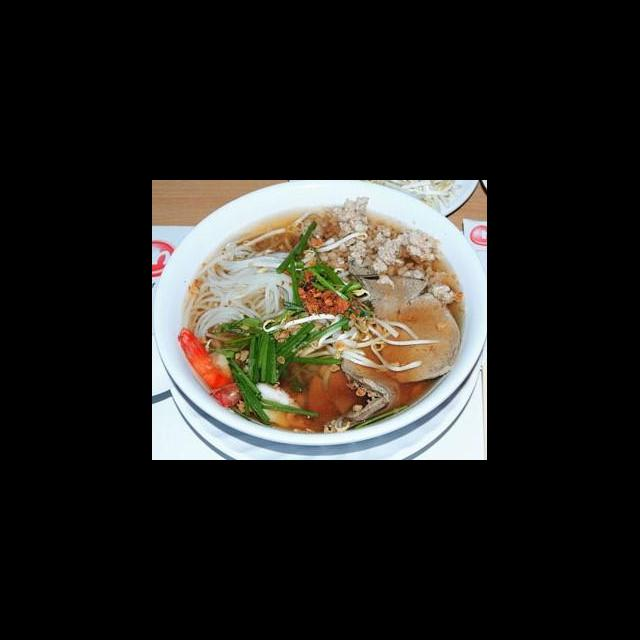banh hu tieu: (180, 226, 318, 345)
gan: (346, 255, 464, 386), (318, 331, 408, 436)
hu tieu: (160, 200, 488, 449)
thit bam: (300, 192, 460, 308)
tom: (177, 325, 250, 393)
